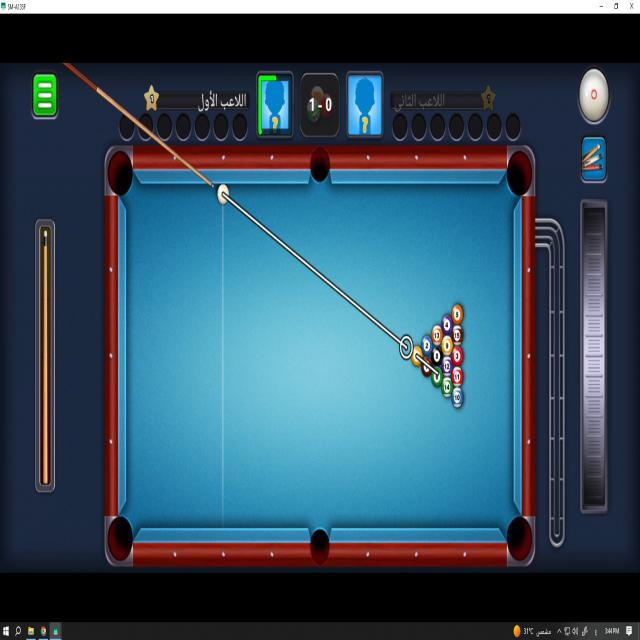object_ball: (421, 354, 433, 377), (411, 345, 423, 367), (431, 325, 443, 346), (421, 335, 432, 356), (411, 345, 422, 366), (441, 357, 453, 376), (442, 315, 453, 335), (451, 346, 462, 366), (442, 377, 453, 397), (441, 336, 453, 354), (452, 387, 462, 408), (452, 367, 463, 386), (431, 367, 442, 386), (431, 347, 442, 366), (452, 304, 462, 324), (452, 326, 462, 345)
white_cue_ball: (217, 184, 229, 205)
